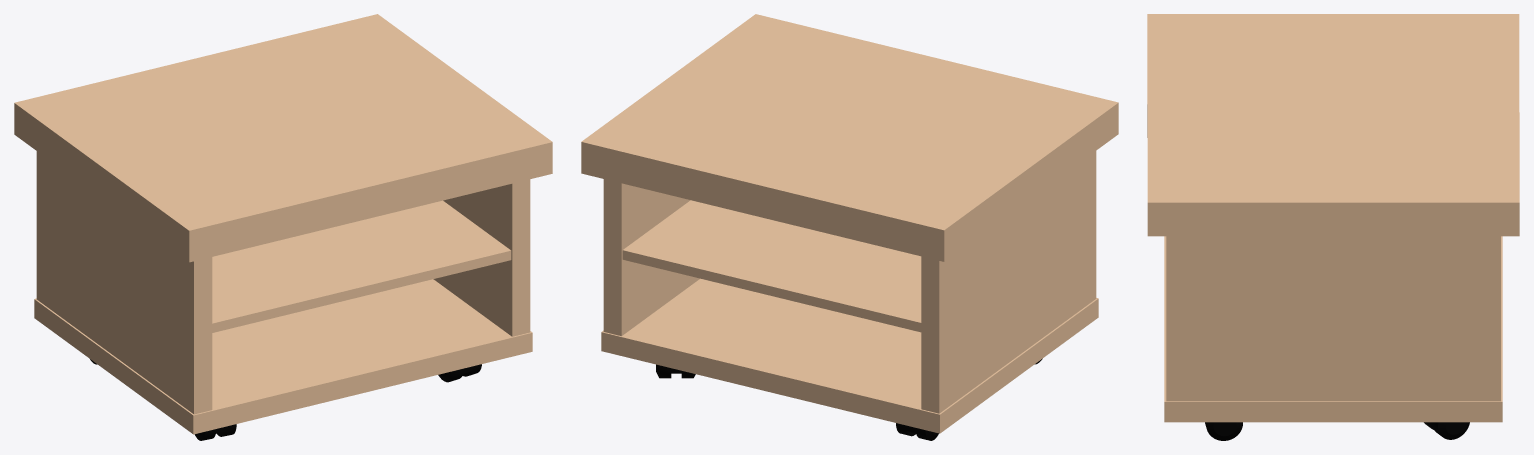
Rendered from StolikNaKoljosah-1.fbx.
3 views of the same model, side by side, from view 1: azimuth 30°, elevation 25°; view 2: azimuth 150°, elevation 25°; view 3: azimuth 270°, elevation 25° (orthographic). The views are drawn at different scales.
Visible parts, largest first — view 1: Cylinder.055; view 2: Cylinder.055; view 3: Cylinder.055.
Part boxes in pixels (bbox=[...]): Cylinder.055: bbox=[14, 14, 552, 440]; Cylinder.055: bbox=[581, 14, 1118, 440]; Cylinder.055: bbox=[1147, 14, 1519, 440].
Size of the model in its own units: 60.02 by 38.8 by 50.02.
